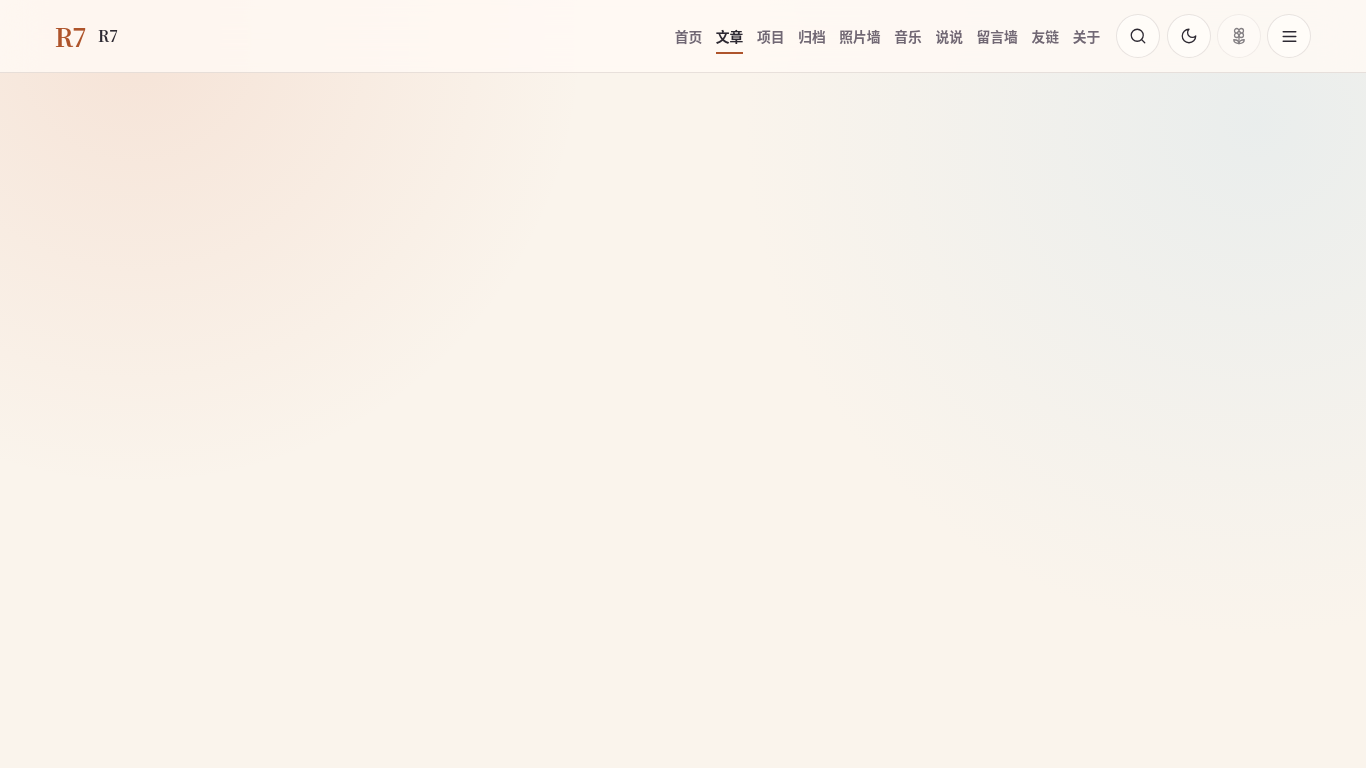
Scenario: theme and navigation controls › marks the active navigation link and supports an Escape-close menu
The width and height of the screenshot is (1366, 768).
Click the button named "打开导航": (1289, 36) x1=1267 y1=14 x2=1311 y2=58
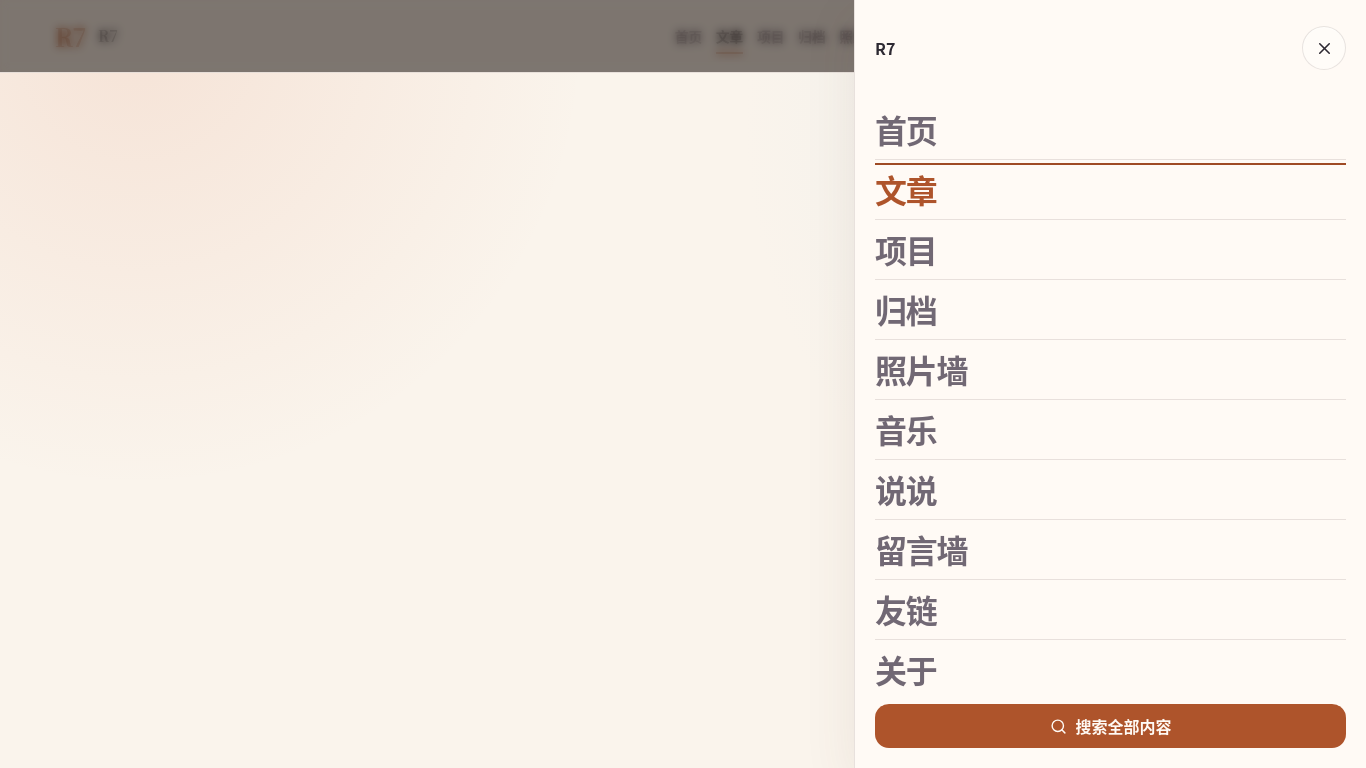
Now the button named "打开导航" is expanded, box x1=1267 y1=14 x2=1311 y2=58
Now the navigation bar named "移动端导航" is shown, box x1=875 y1=100 x2=1346 y2=688
Press Escape
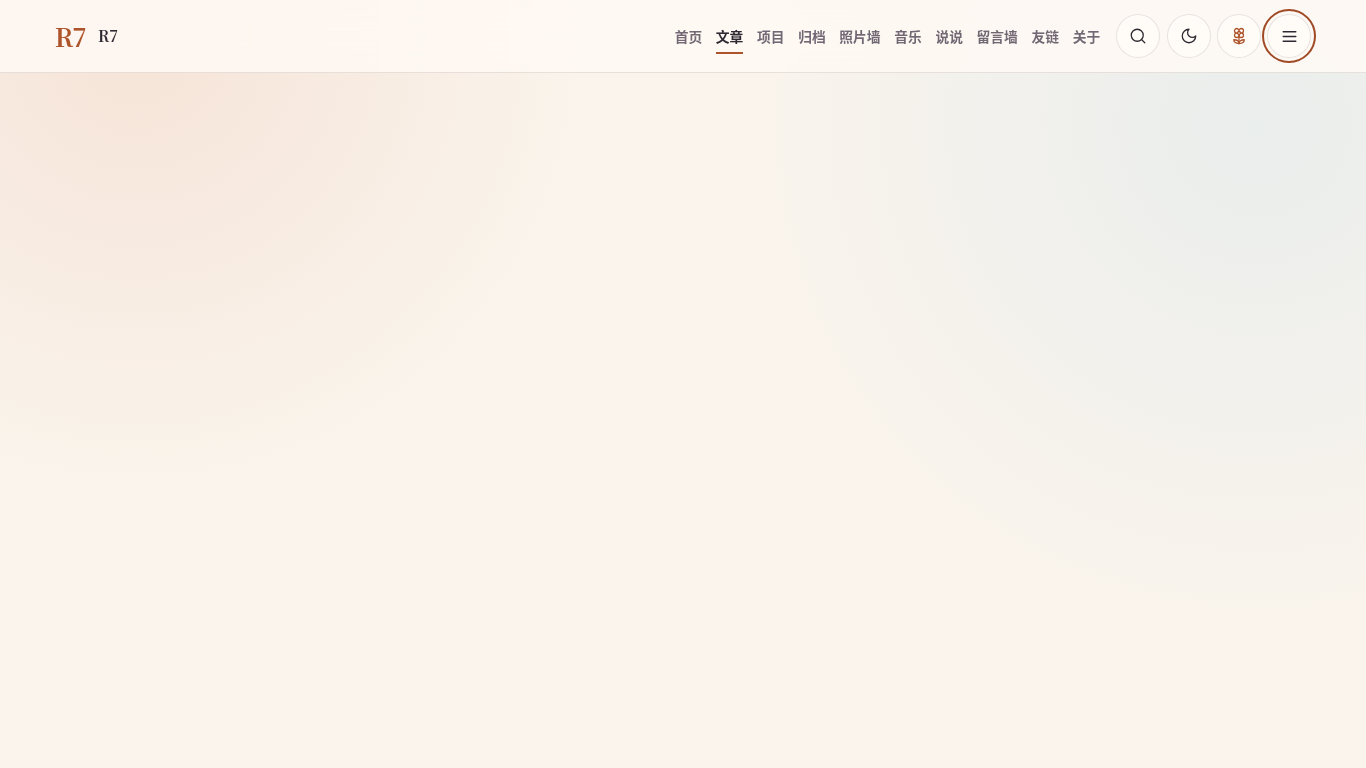
Now the button named "打开导航" is collapsed, box x1=1267 y1=14 x2=1311 y2=58
